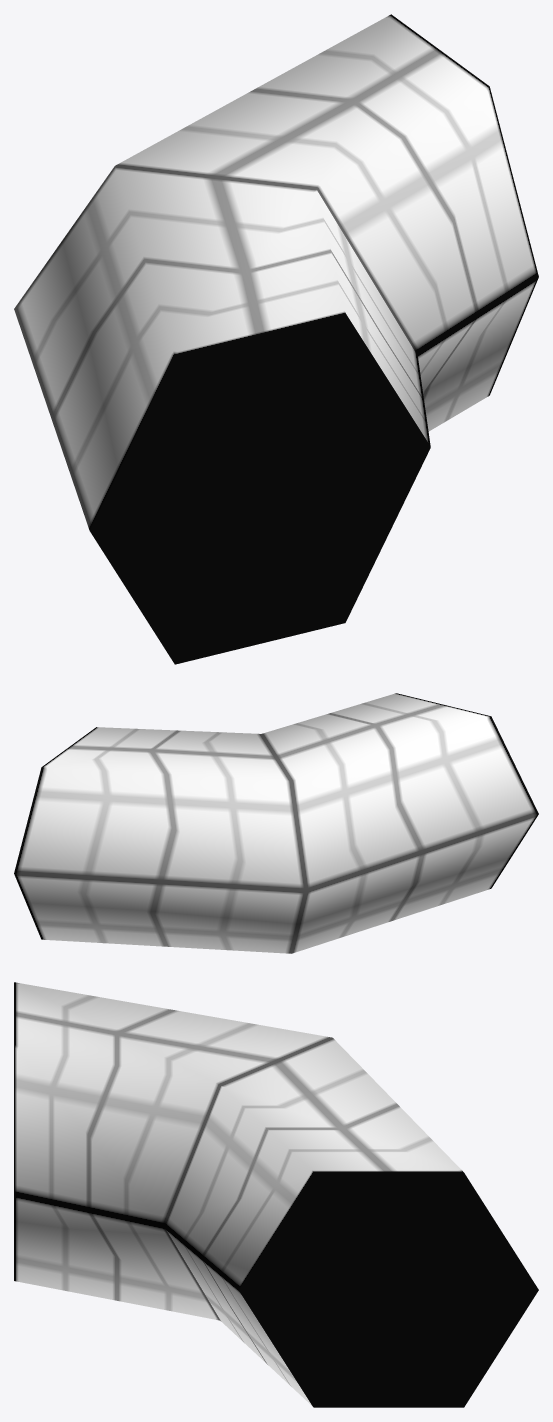
Rendered from fence-3.fbx.
3 views of the same model, one above another, from view 1: azimuth 30°, elevation 25°; view 2: azimuth 150°, elevation 25°; view 3: azimuth 270°, elevation 25° (orthographic). The views are drawn at different scales.
Visible parts, largest first — view 1: Object, Zplus; view 2: Object; view 3: Object, Xplus.
Boxes of the visible parts, x1,y1,x2,y2 form: Object: (14,14,538,530); Zplus: (90,314,430,664); Object: (14,693,538,953); Object: (14,982,463,1406); Xplus: (239,1172,538,1407).
Size of the model in its own units: 14 by 6.93 by 14.
